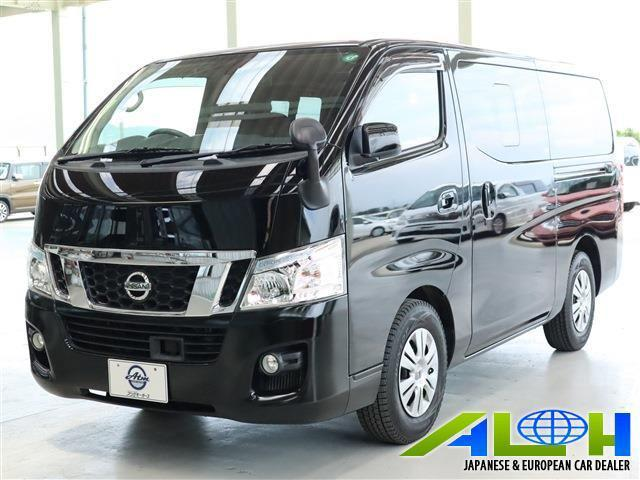van: (24, 30, 613, 426)
